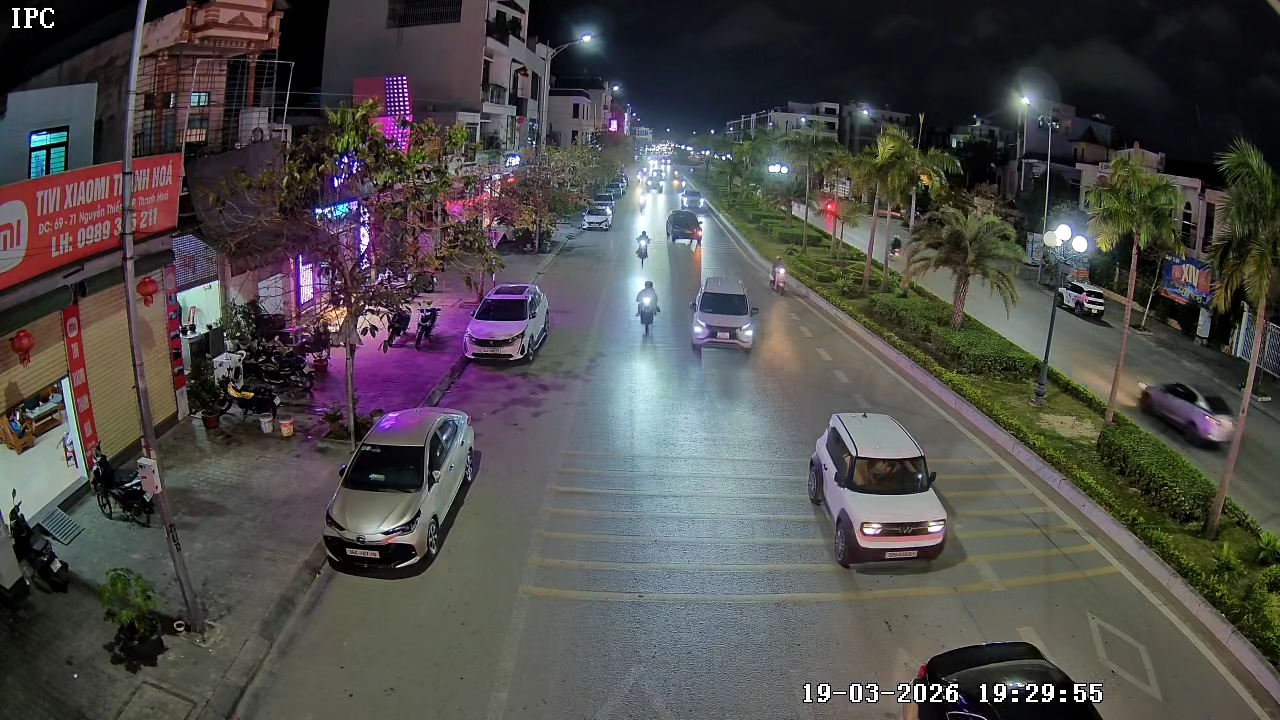car: (323, 405, 482, 576), (806, 410, 954, 571), (464, 281, 552, 364), (1137, 380, 1239, 450), (688, 276, 761, 356), (666, 208, 700, 243), (581, 200, 615, 232), (678, 186, 707, 209)
motorbike: (635, 276, 663, 339), (769, 263, 788, 296), (634, 226, 651, 260), (633, 187, 652, 212)
